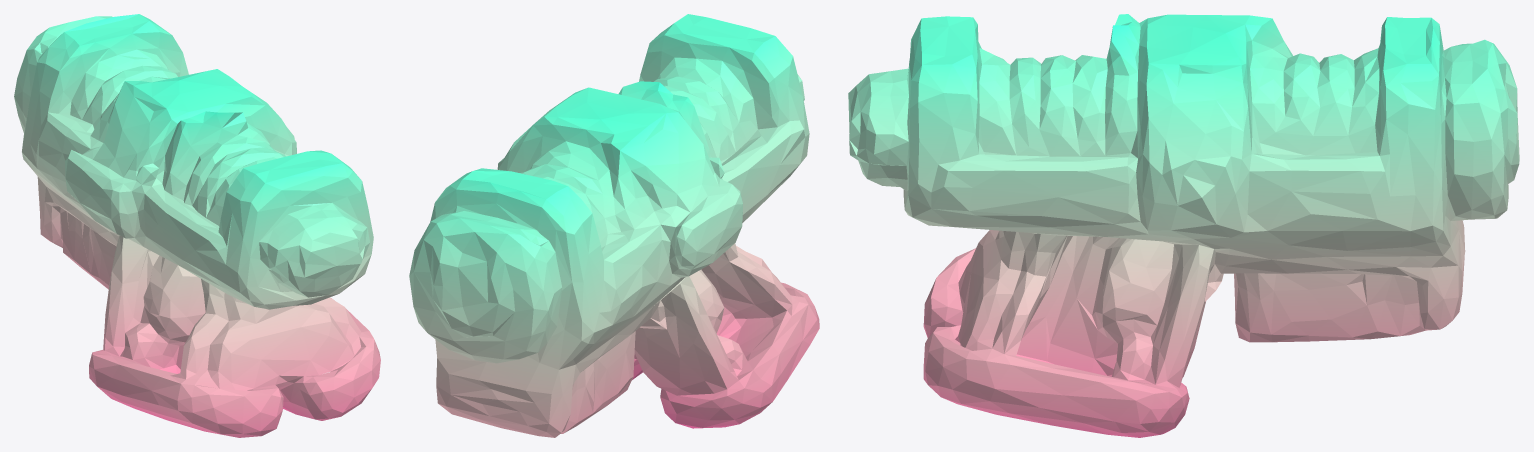
File: 187_cyb_laser_gradient_fish_scales_2963_2026_10_03_f0876d.glb
3 renders of one model, left to right at view 1: azimuth 30°, elevation 25°; view 2: azimuth 150°, elevation 25°; view 3: azimuth 270°, elevation 25°, orthographic. The views are drawn at different scales.
Visible parts, largest first — view 1: geometry_0; view 2: geometry_0; view 3: geometry_0.
Boxes of the visible parts, box(x1,y1,x2,y2) form: geometry_0: box(14, 14, 380, 437); geometry_0: box(409, 14, 819, 437); geometry_0: box(848, 14, 1519, 437).
Bounding box in the file's own units: 0.5314 × 0.5976 × 1.
